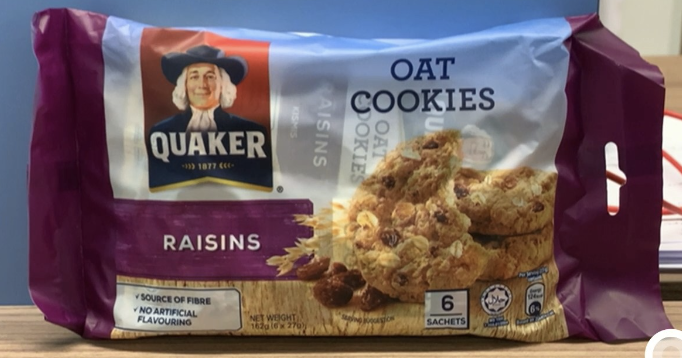cookies_100g-199g: (112, 46, 559, 333)
